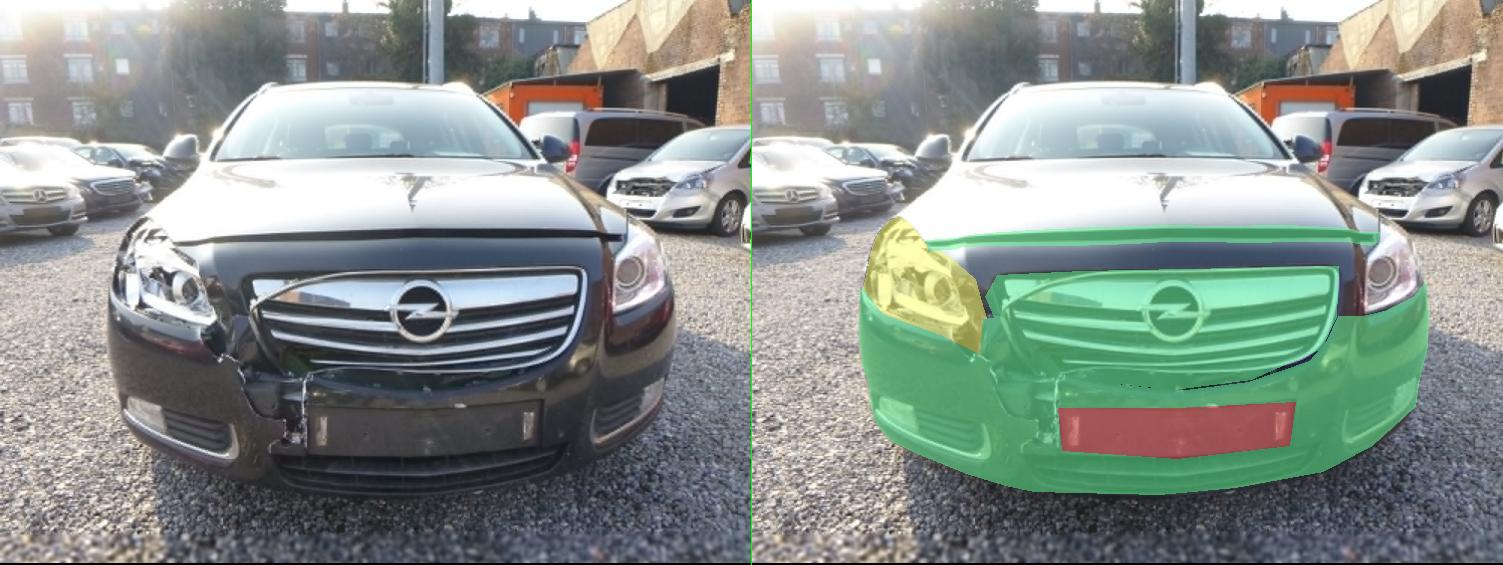Broken part: (214, 282, 1353, 494), (466, 266, 1173, 389), (348, 225, 1257, 250)
Cracked: (222, 217, 470, 355)
Missing part: (612, 402, 1087, 458)
